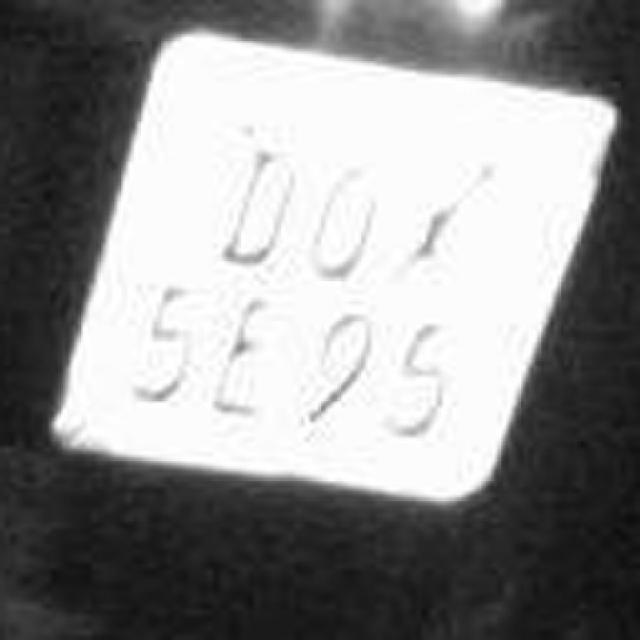5: (108, 248, 212, 428), (369, 280, 476, 445)
E: (192, 269, 300, 436)
O: (188, 120, 324, 292), (280, 132, 395, 308)
